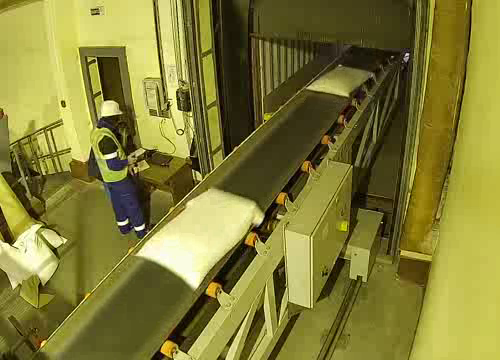bag: (131, 186, 270, 287), (304, 62, 375, 101)
